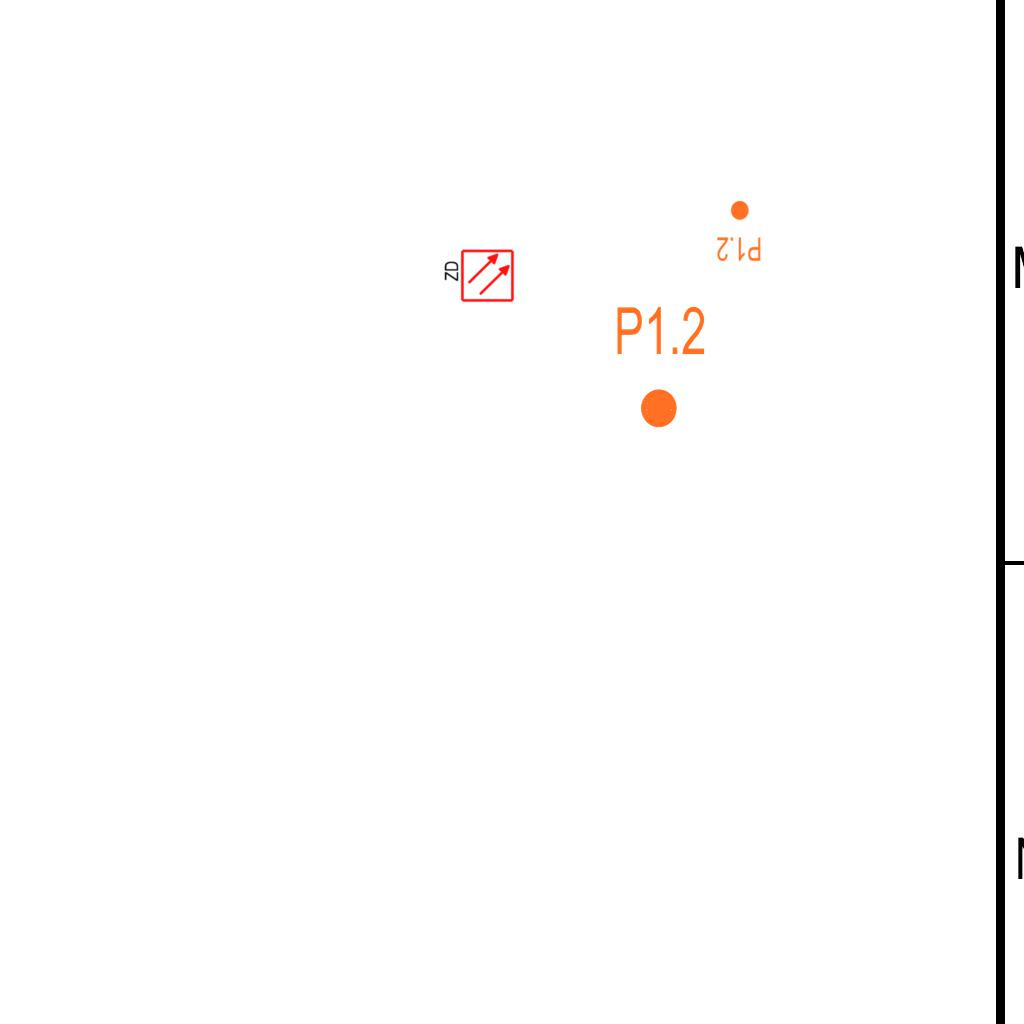Downlight_LED_Einbauleuchten_Flur: (614, 303, 707, 431), (716, 199, 762, 263)
ZD_Melder_in_Zwischendecke_mit_Revisionsoeffnung_mind_40_x_40_cm: (441, 248, 515, 305)
